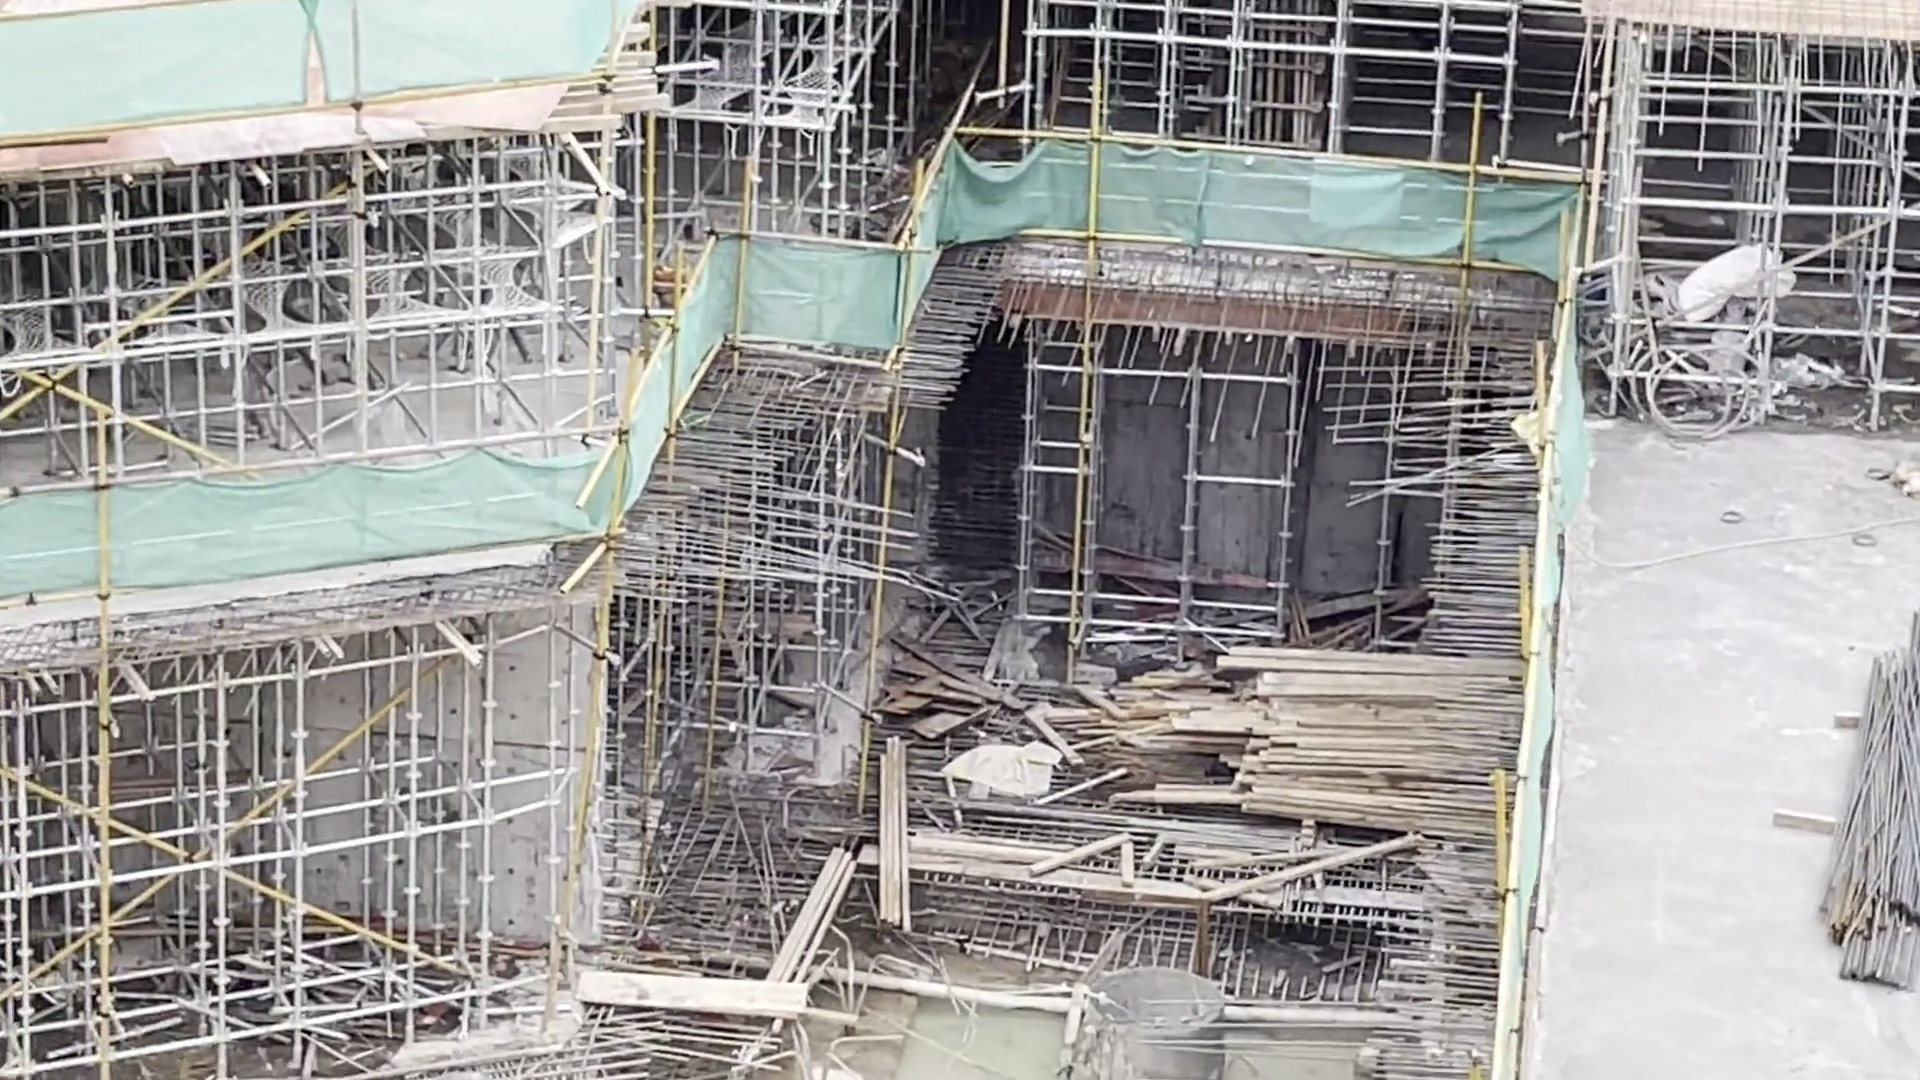rebar: (1812, 607, 1920, 996)
wood: (1213, 626, 1522, 831)
